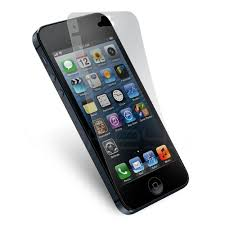iphone: (29, 8, 188, 216)
iphone5: (29, 10, 188, 218)
